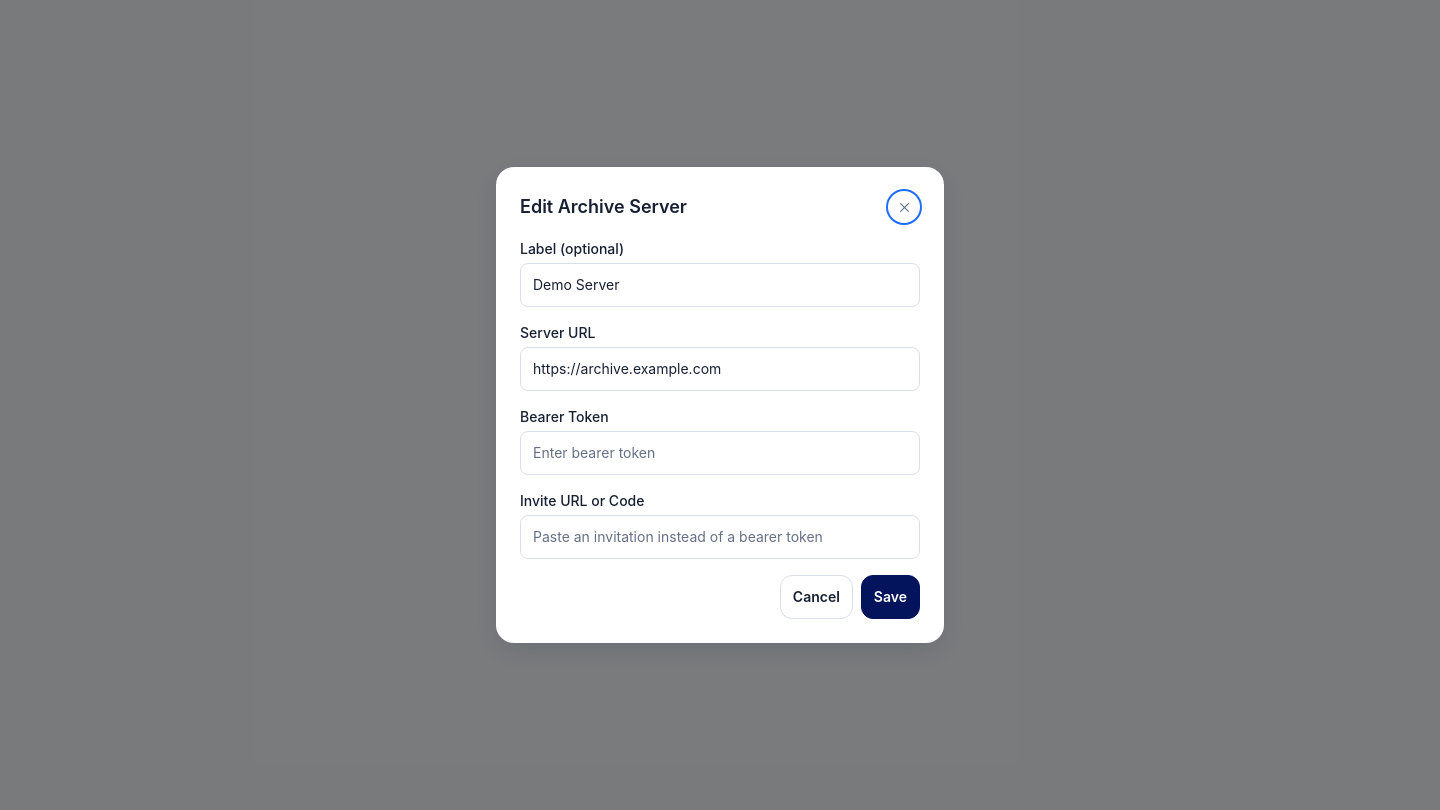
Test case: EditArchiveServerDialog › shows validation error when URL is cleared
Clear the field labelled "Server URL" at (720, 369), box [520,347,920,391]
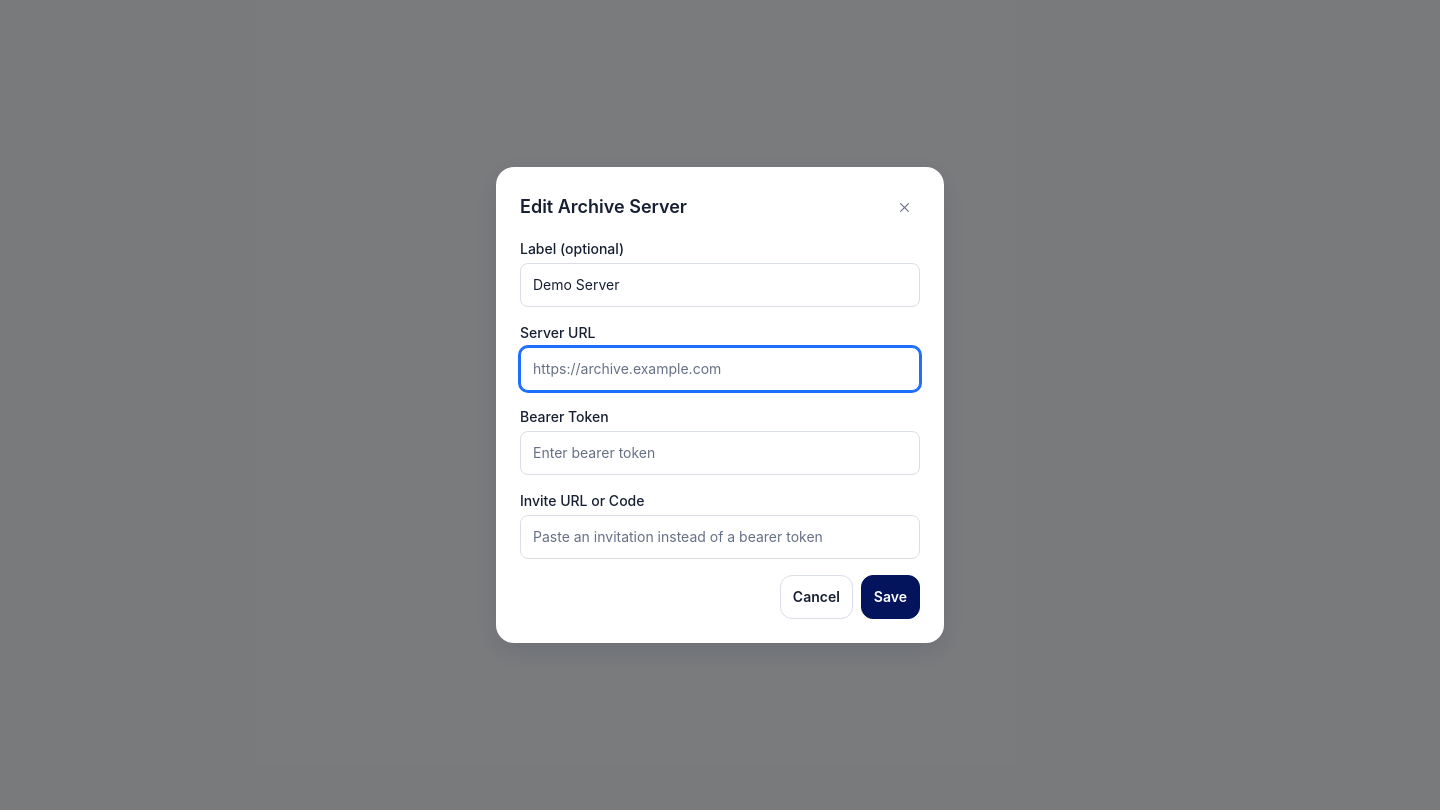
Click the button "Save" at (890, 597), box [861,575,920,619]
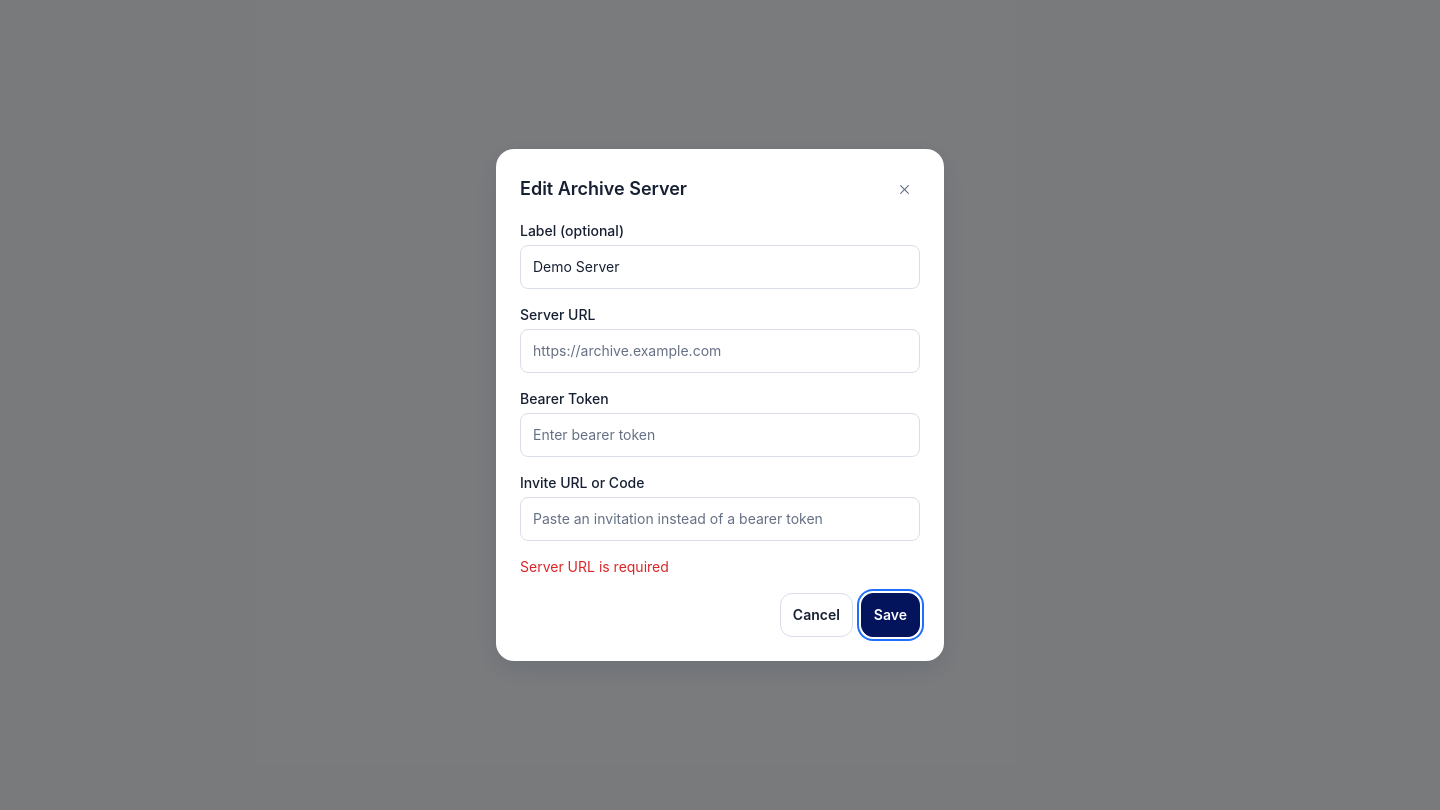
Result: the text "Server URL is required" is shown at [520,558,669,575]
